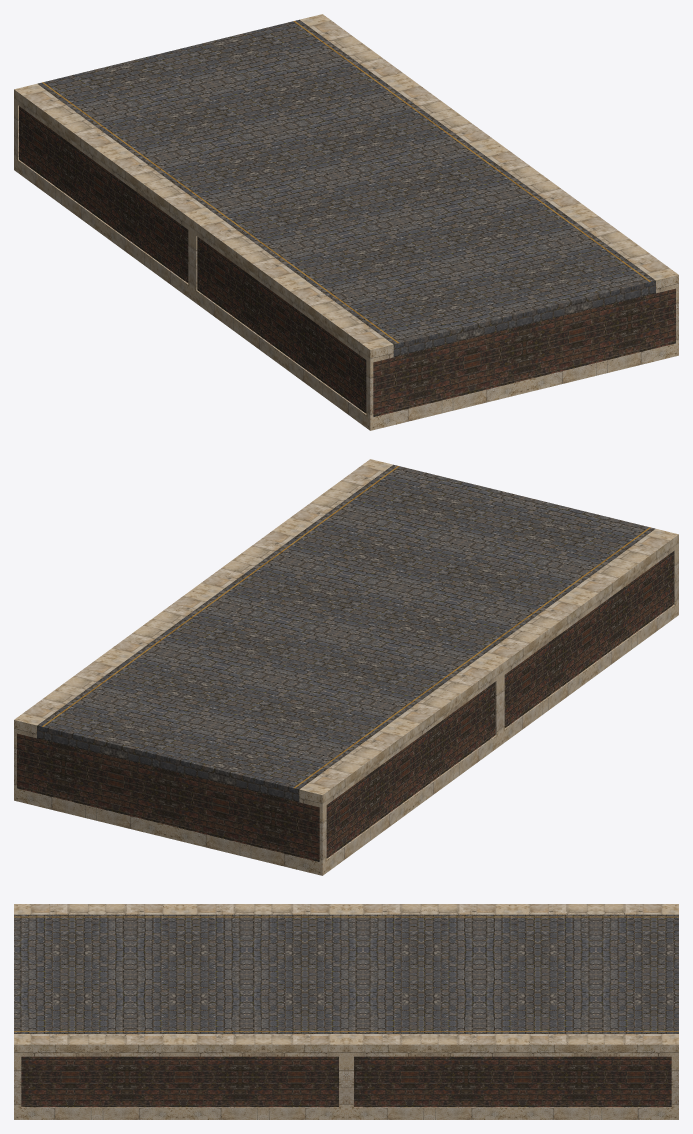
The model's file is platform_segment.glb.
The picture shows the model from 3 angles, top to bottom: view 1: azimuth 30°, elevation 25°; view 2: azimuth 150°, elevation 25°; view 3: azimuth 270°, elevation 25°; orthographic projection. The views are drawn at different scales.
Parts seen in each view (by area): view 1: platform_paving, brick_retaining_wall, stone_coping, platform_foundation, stone_wall_piers; view 2: platform_paving, brick_retaining_wall, stone_coping, platform_foundation, stone_wall_piers; view 3: platform_paving, brick_retaining_wall, stone_coping, platform_foundation, stone_wall_piers.
Part boxes in pixels (x1=…): platform_paving: x1=37, y1=19, x2=655, y2=357; brick_retaining_wall: x1=19, y1=106, x2=675, y2=416; stone_coping: x1=14, y1=14, x2=678, y2=362; platform_foundation: x1=14, y1=157, x2=678, y2=430; stone_wall_piers: x1=14, y1=102, x2=678, y2=417; platform_paving: x1=37, y1=464, x2=655, y2=802; brick_retaining_wall: x1=17, y1=551, x2=673, y2=861; stone_coping: x1=14, y1=459, x2=678, y2=807; platform_foundation: x1=14, y1=602, x2=678, y2=875; stone_wall_piers: x1=14, y1=547, x2=678, y2=862; platform_paving: x1=14, y1=914, x2=678, y2=1033; brick_retaining_wall: x1=21, y1=1056, x2=671, y2=1107; stone_coping: x1=14, y1=904, x2=678, y2=1056; platform_foundation: x1=14, y1=1107, x2=678, y2=1119; stone_wall_piers: x1=14, y1=1056, x2=678, y2=1107.
Bounding box in the file's own units: 4 × 1 × 8.
4 materials, 4 textured.
